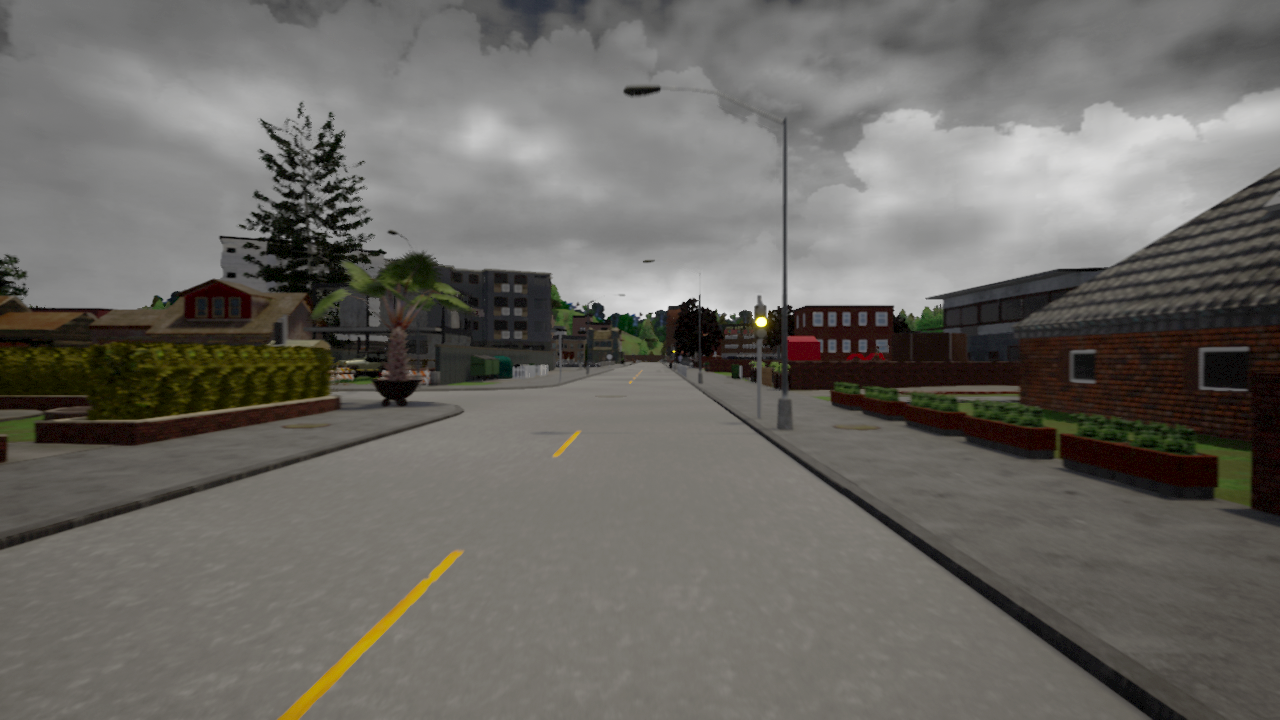yellow: (753, 304, 768, 340)
